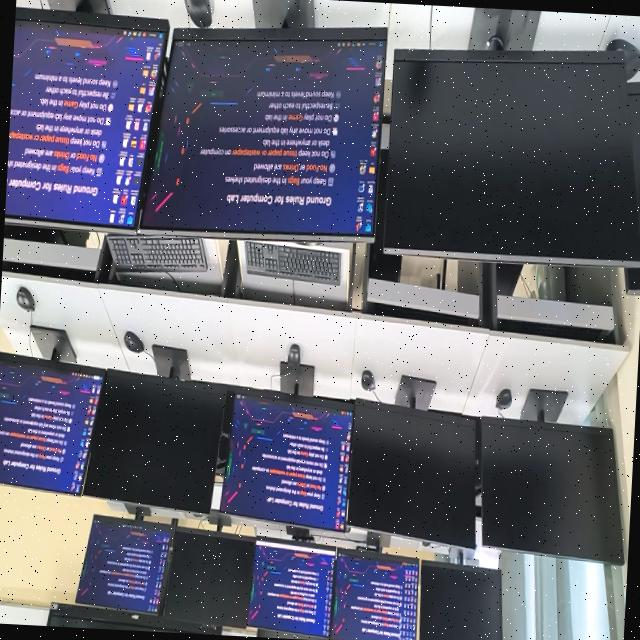Chair: (217, 392, 235, 470)
Cpu: (369, 149, 401, 281), (22, 229, 88, 247), (497, 265, 523, 296)
Digital board: (47, 604, 223, 635)
Keyboard: (245, 241, 342, 287), (108, 235, 208, 272)
Monitor: (384, 8, 640, 267), (139, 0, 387, 242), (5, 0, 169, 231), (480, 390, 624, 565), (83, 346, 226, 514), (221, 363, 354, 532), (348, 376, 476, 548), (0, 327, 105, 495), (76, 506, 178, 615), (163, 510, 256, 629), (333, 532, 420, 640), (248, 536, 336, 638), (420, 562, 503, 640), (628, 83, 640, 224), (257, 629, 333, 640), (625, 267, 640, 295)
Mouse: (606, 40, 640, 82), (185, 0, 212, 28), (17, 287, 35, 312), (124, 332, 144, 353), (496, 389, 512, 412), (287, 345, 300, 368), (361, 370, 375, 391), (422, 541, 430, 547)
